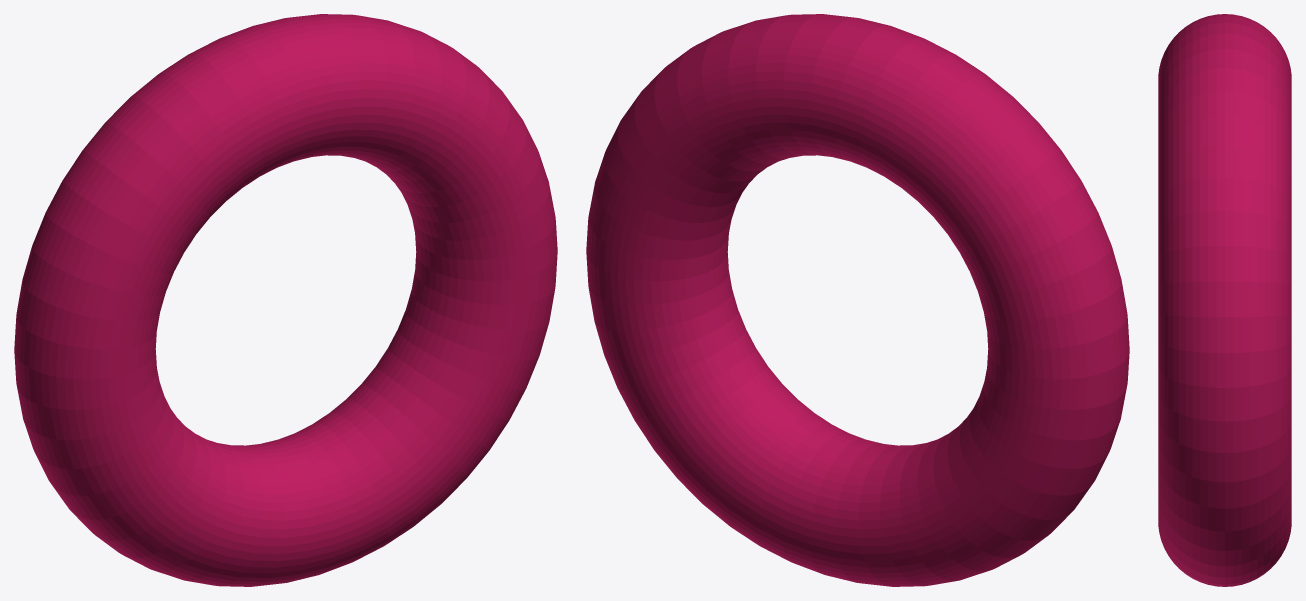
3 views of the same model, side by side, from view 1: azimuth 30°, elevation 25°; view 2: azimuth 150°, elevation 25°; view 3: azimuth 270°, elevation 25° (orthographic). The views are drawn at different scales.
Parts seen in each view (by area): view 1: world; view 2: world; view 3: world.
Boxes of the visible parts, box(x1,y1,x2,y2) form: world: box(14, 14, 557, 586); world: box(586, 14, 1129, 586); world: box(1158, 14, 1291, 586).
Bounding box in the file's own units: 34.8 × 34.73 × 8.12.
